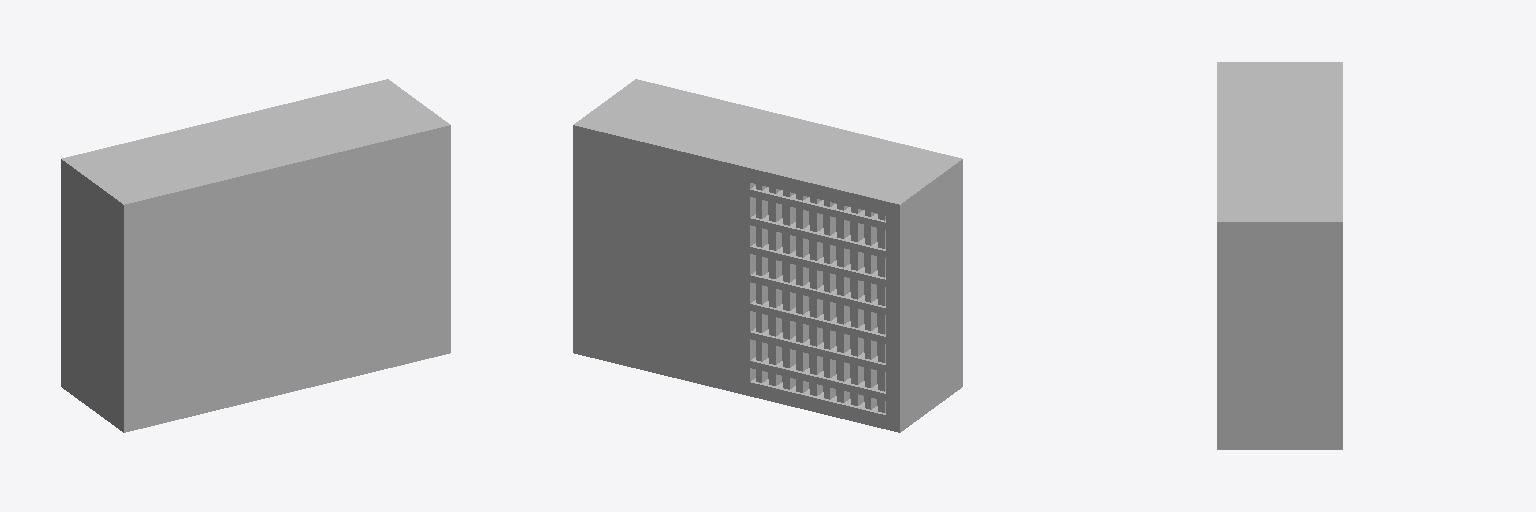
Rendered from outdoor_ac_unit.obj.
The picture shows the model from 3 angles: view 1: azimuth 30°, elevation 25°; view 2: azimuth 150°, elevation 25°; view 3: azimuth 270°, elevation 25°; orthographic projection.
Parts seen in each view (by area): view 1: cube; view 2: cube; view 3: cube.
Boxes of the visible parts, box(x1,y1,x2,y2) form: cube: box(61, 79, 450, 432); cube: box(573, 79, 962, 432); cube: box(1217, 62, 1342, 449).
Size of the model in its own units: 3 by 2 by 1.